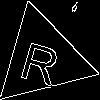R: (18, 33, 65, 87)
